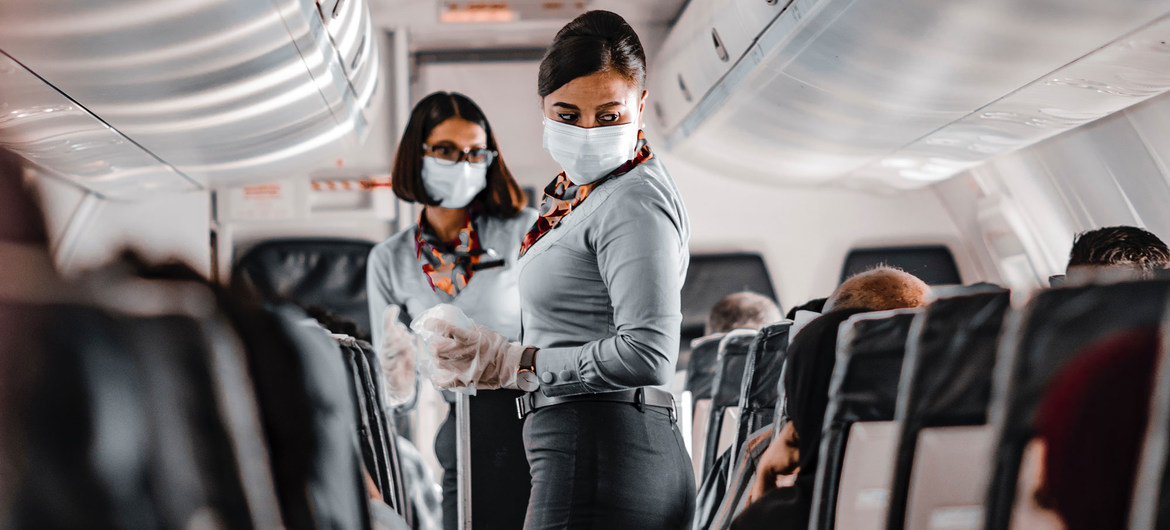with_mask: (547, 76, 637, 174), (426, 126, 488, 207)
